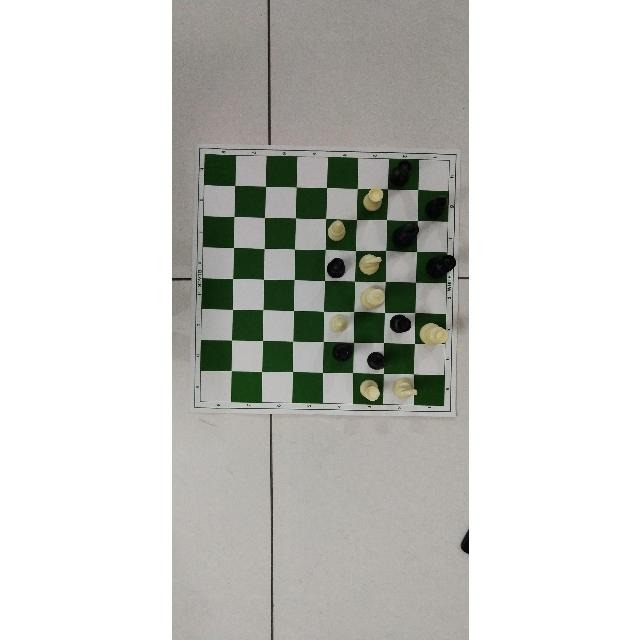black-bishop: (424, 195, 448, 219), (366, 350, 384, 371)
black-king: (391, 222, 419, 248)
black-queen: (423, 253, 456, 279)
black-rook: (388, 159, 411, 187), (325, 257, 346, 280), (388, 312, 411, 333), (331, 342, 351, 363)
white-bishop: (325, 220, 346, 242), (329, 315, 347, 333)
white-king: (359, 286, 385, 310)
white-knight: (389, 376, 416, 400), (358, 253, 382, 275)
white-queen: (418, 322, 449, 346)
white-rook: (361, 188, 384, 212), (357, 379, 379, 402)
